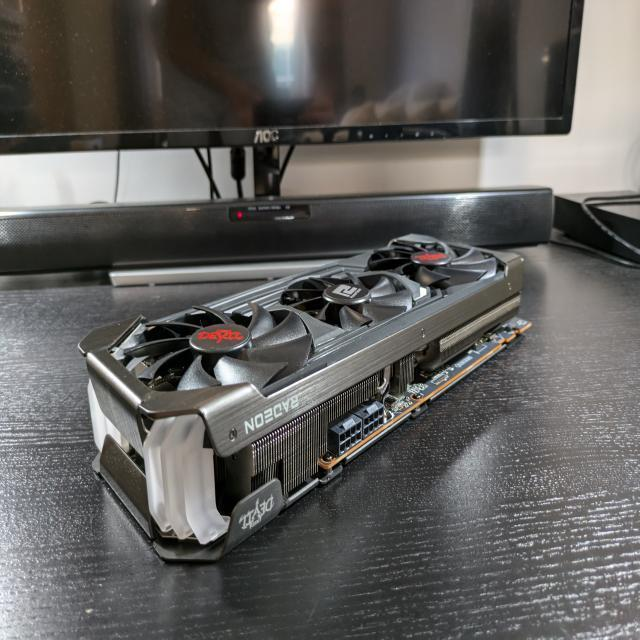GPU: (70, 226, 534, 564)
